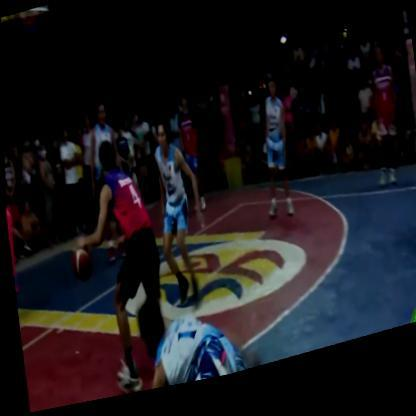basketball: (69, 242, 93, 297)
